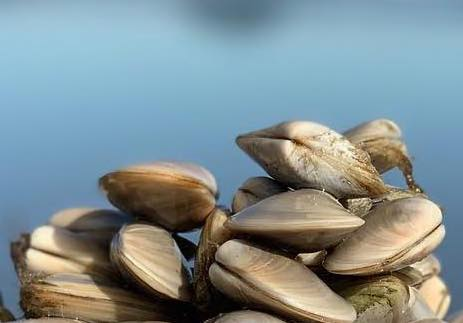tuatua: (205, 238, 360, 323), (234, 119, 389, 196), (321, 194, 448, 276), (224, 188, 367, 250), (96, 158, 219, 229), (107, 219, 196, 308), (14, 272, 165, 323)
